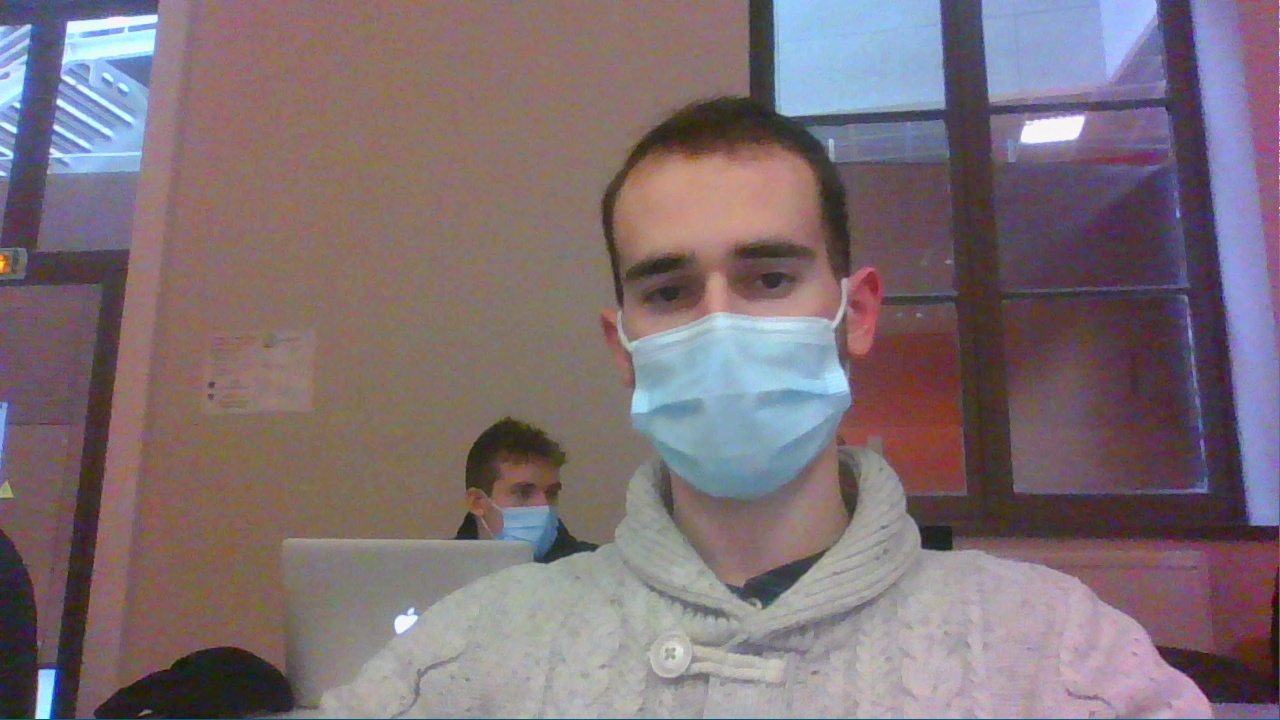mask: (596, 92, 884, 502), (462, 417, 563, 557)
